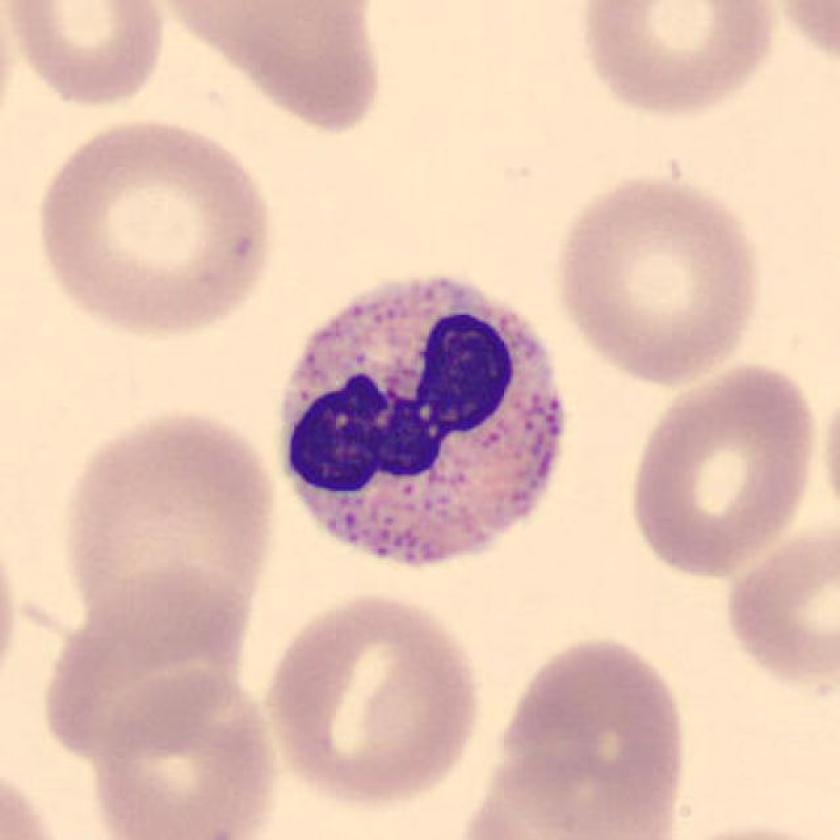neutrophil: (282, 280, 565, 566)
